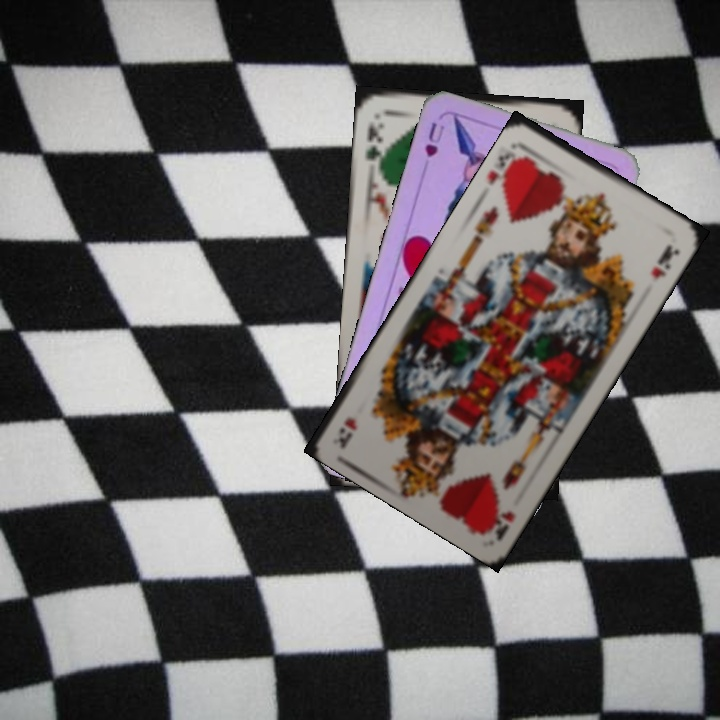GK: (360, 118, 387, 171)
HK: (483, 139, 529, 196), (483, 502, 518, 542)
HU: (421, 117, 447, 161)
